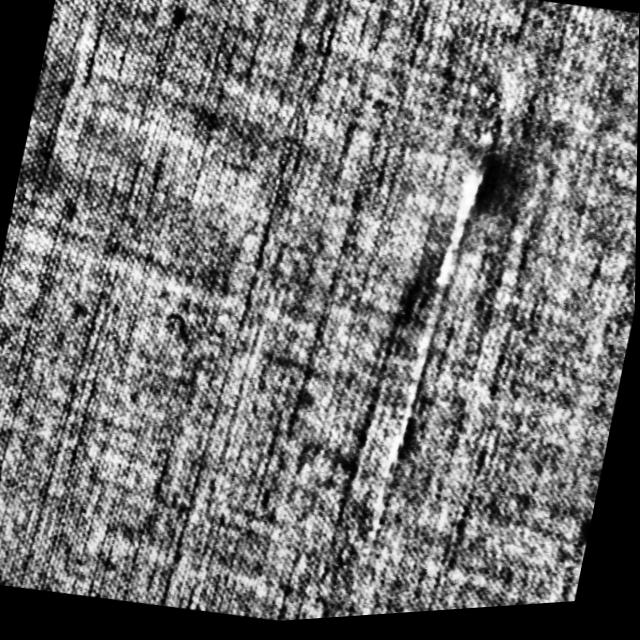Stitch: (362, 81, 520, 574)
